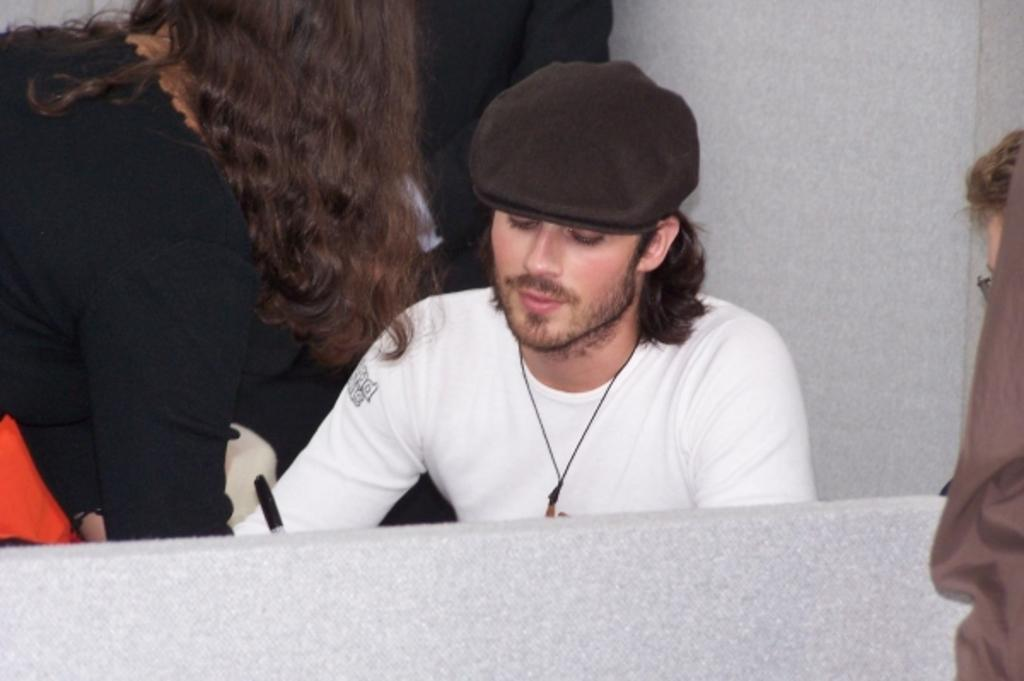Hat: (460, 54, 700, 231)
